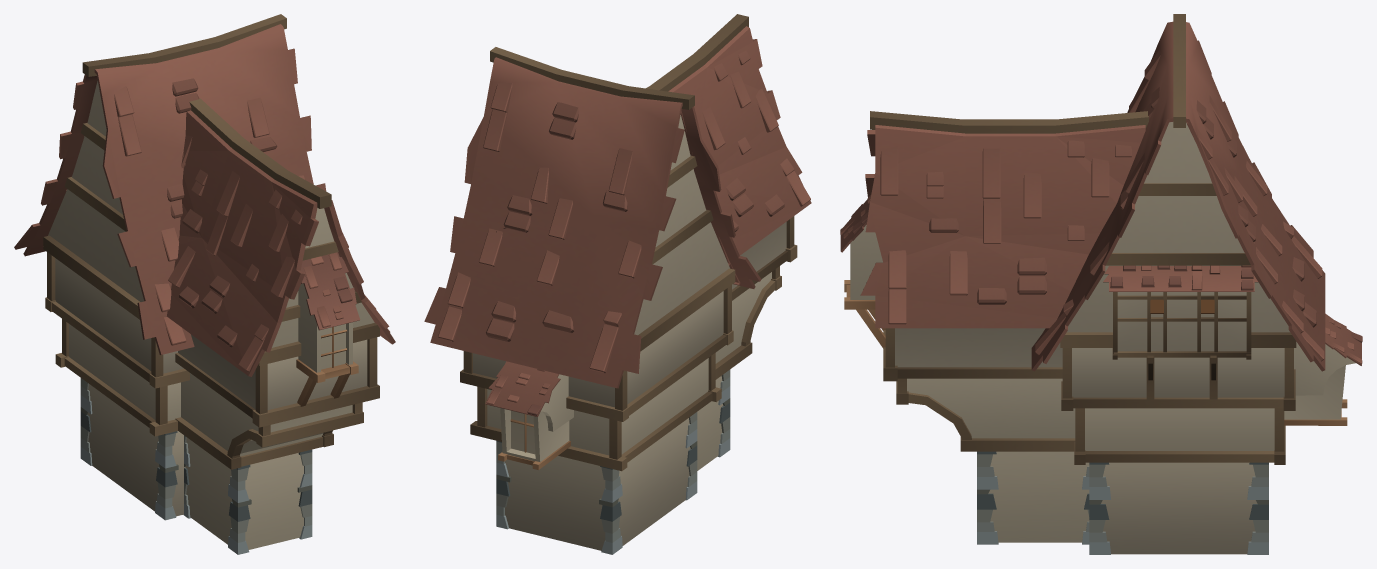
Rendered from ZLP_Build_B_7.FBX.
The picture shows the model from 3 angles, left to right: view 1: azimuth 30°, elevation 25°; view 2: azimuth 150°, elevation 25°; view 3: azimuth 270°, elevation 25°; orthographic projection. The views are drawn at different scales.
Visible parts, largest first — view 1: ZLP_Build_B_7; view 2: ZLP_Build_B_7; view 3: ZLP_Build_B_7.
Part boxes in pixels (bbox=[...]): ZLP_Build_B_7: bbox=[14, 14, 395, 554]; ZLP_Build_B_7: bbox=[424, 14, 811, 554]; ZLP_Build_B_7: bbox=[840, 14, 1362, 554].
Size of the model in its own units: 512 by 986 by 1010.
